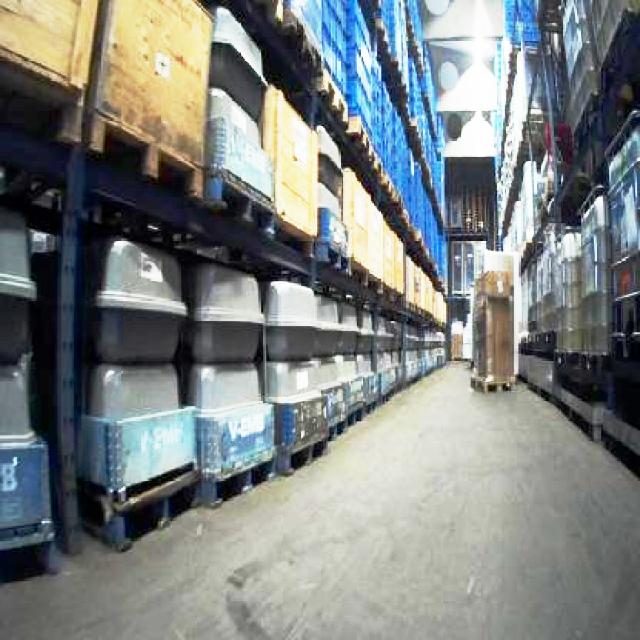ground: (0, 357, 638, 638)
pallet: (0, 0, 451, 334), (68, 222, 446, 551), (492, 0, 638, 638), (0, 188, 58, 588), (468, 260, 517, 392)
